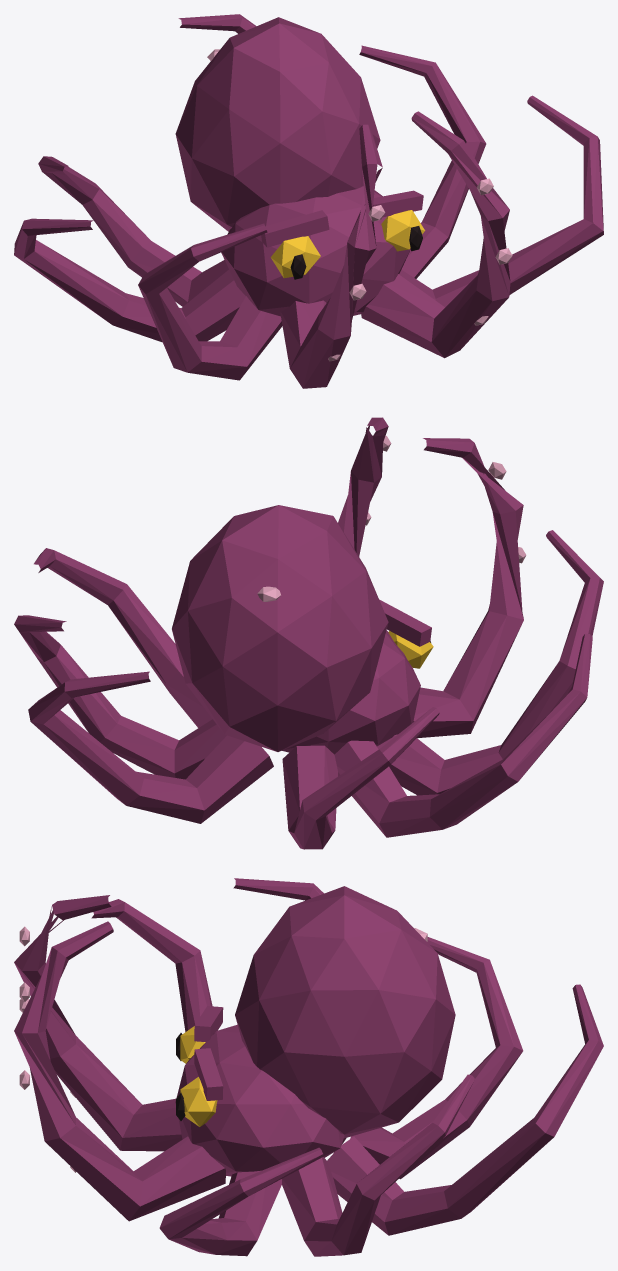
The model's file is monster_bach_tuoc.glb.
3 views of the same model, one above another, from view 1: azimuth 30°, elevation 25°; view 2: azimuth 150°, elevation 25°; view 3: azimuth 270°, elevation 25° (orthographic). The views are drawn at different scales.
Parts seen in each view (by area): view 1: monster_bach_tuoc; view 2: monster_bach_tuoc; view 3: monster_bach_tuoc.
Part boxes in pixels (x1,y1,x2,y2): monster_bach_tuoc: (14,14,603,388); monster_bach_tuoc: (14,417,603,849); monster_bach_tuoc: (14,878,603,1256).
Size of the model in its own units: 13.11 by 6.7 by 11.63.
